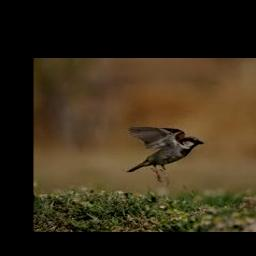Sparrow: (126, 127, 203, 186)
